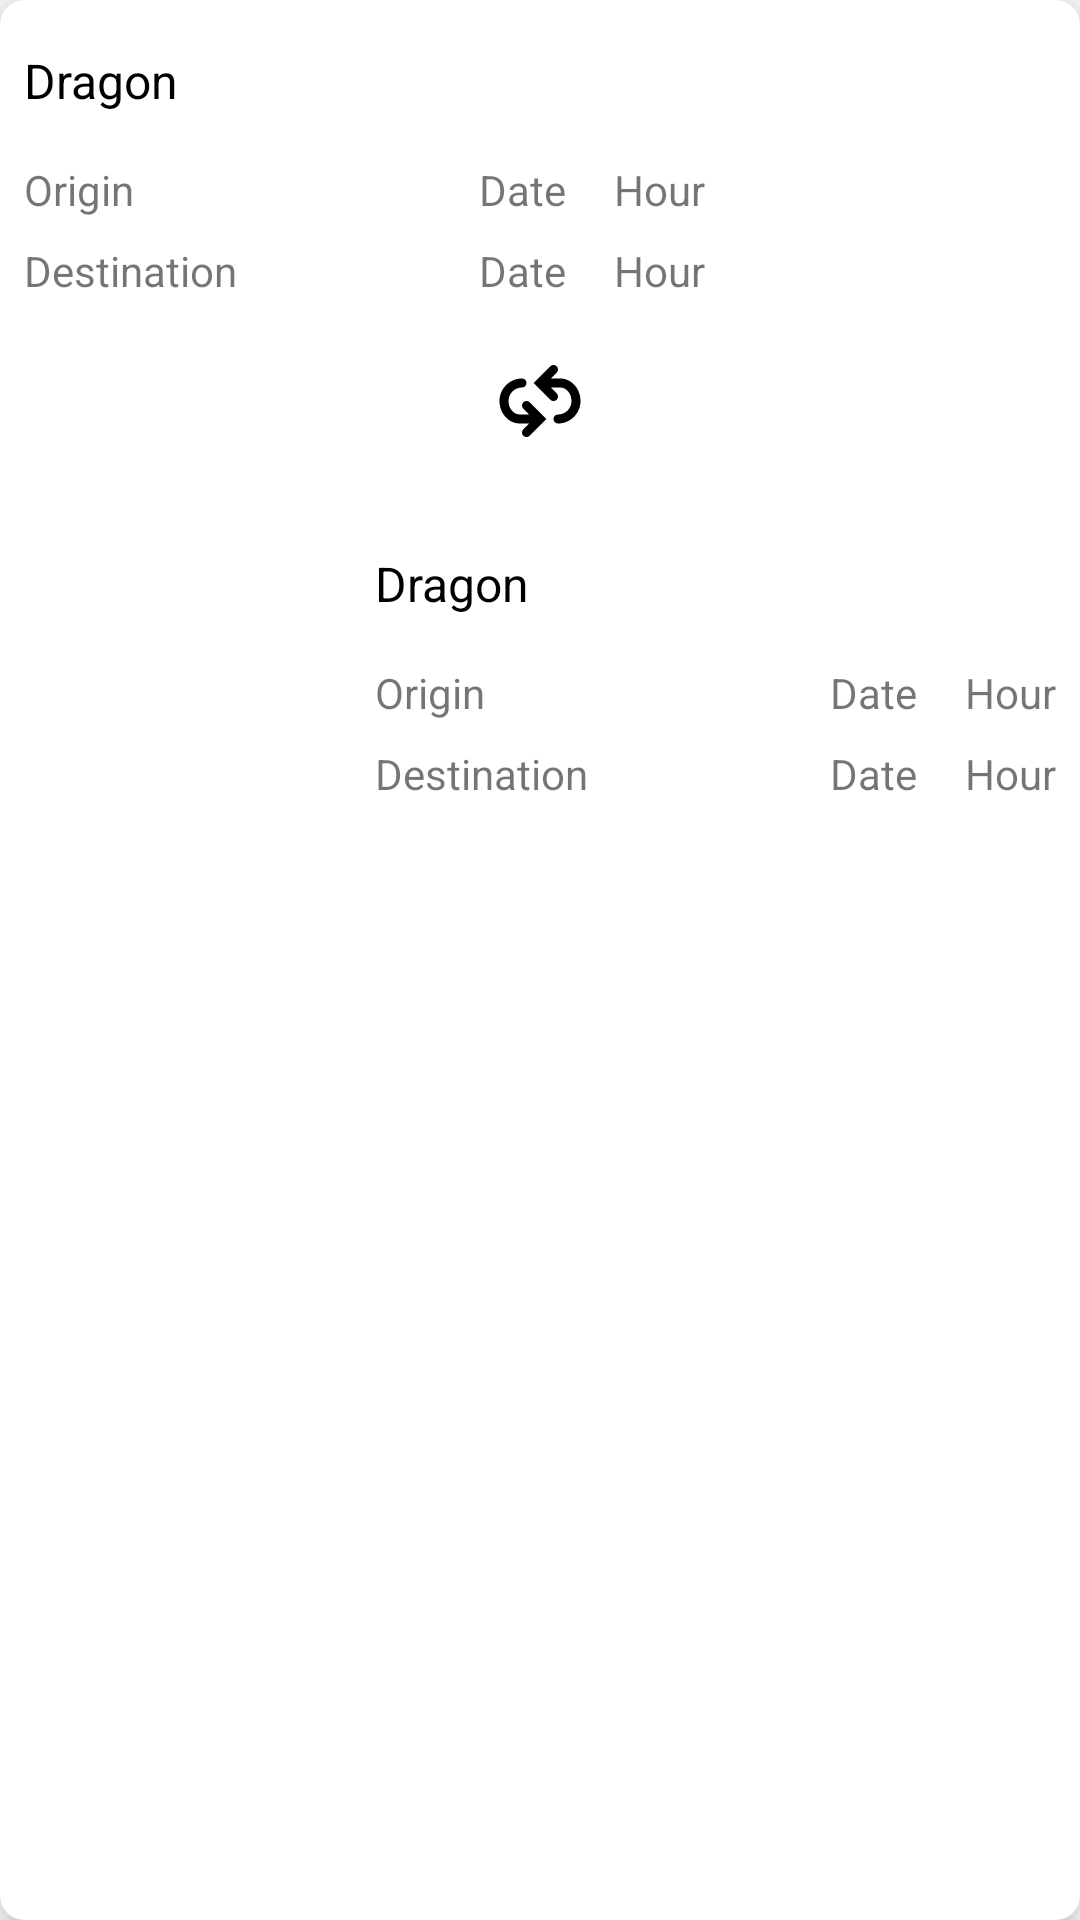

Named icons in this screenshot (1080x1920) and their bounding boxes, detection(x1, y1, x2, y2):
arrow repeat: detection(499, 365, 581, 437)
